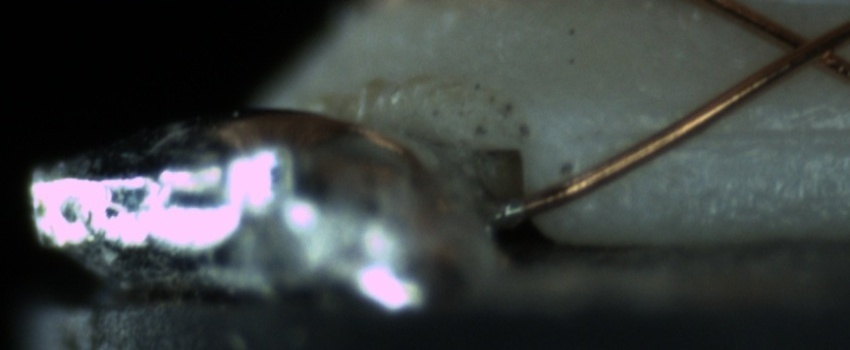CL: (764, 13, 848, 79)
DL: (603, 98, 846, 166)
